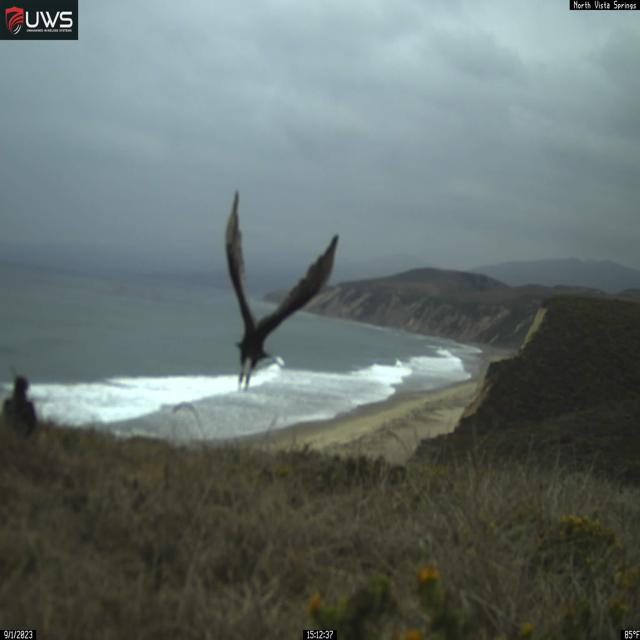bird: (223, 188, 340, 393)
